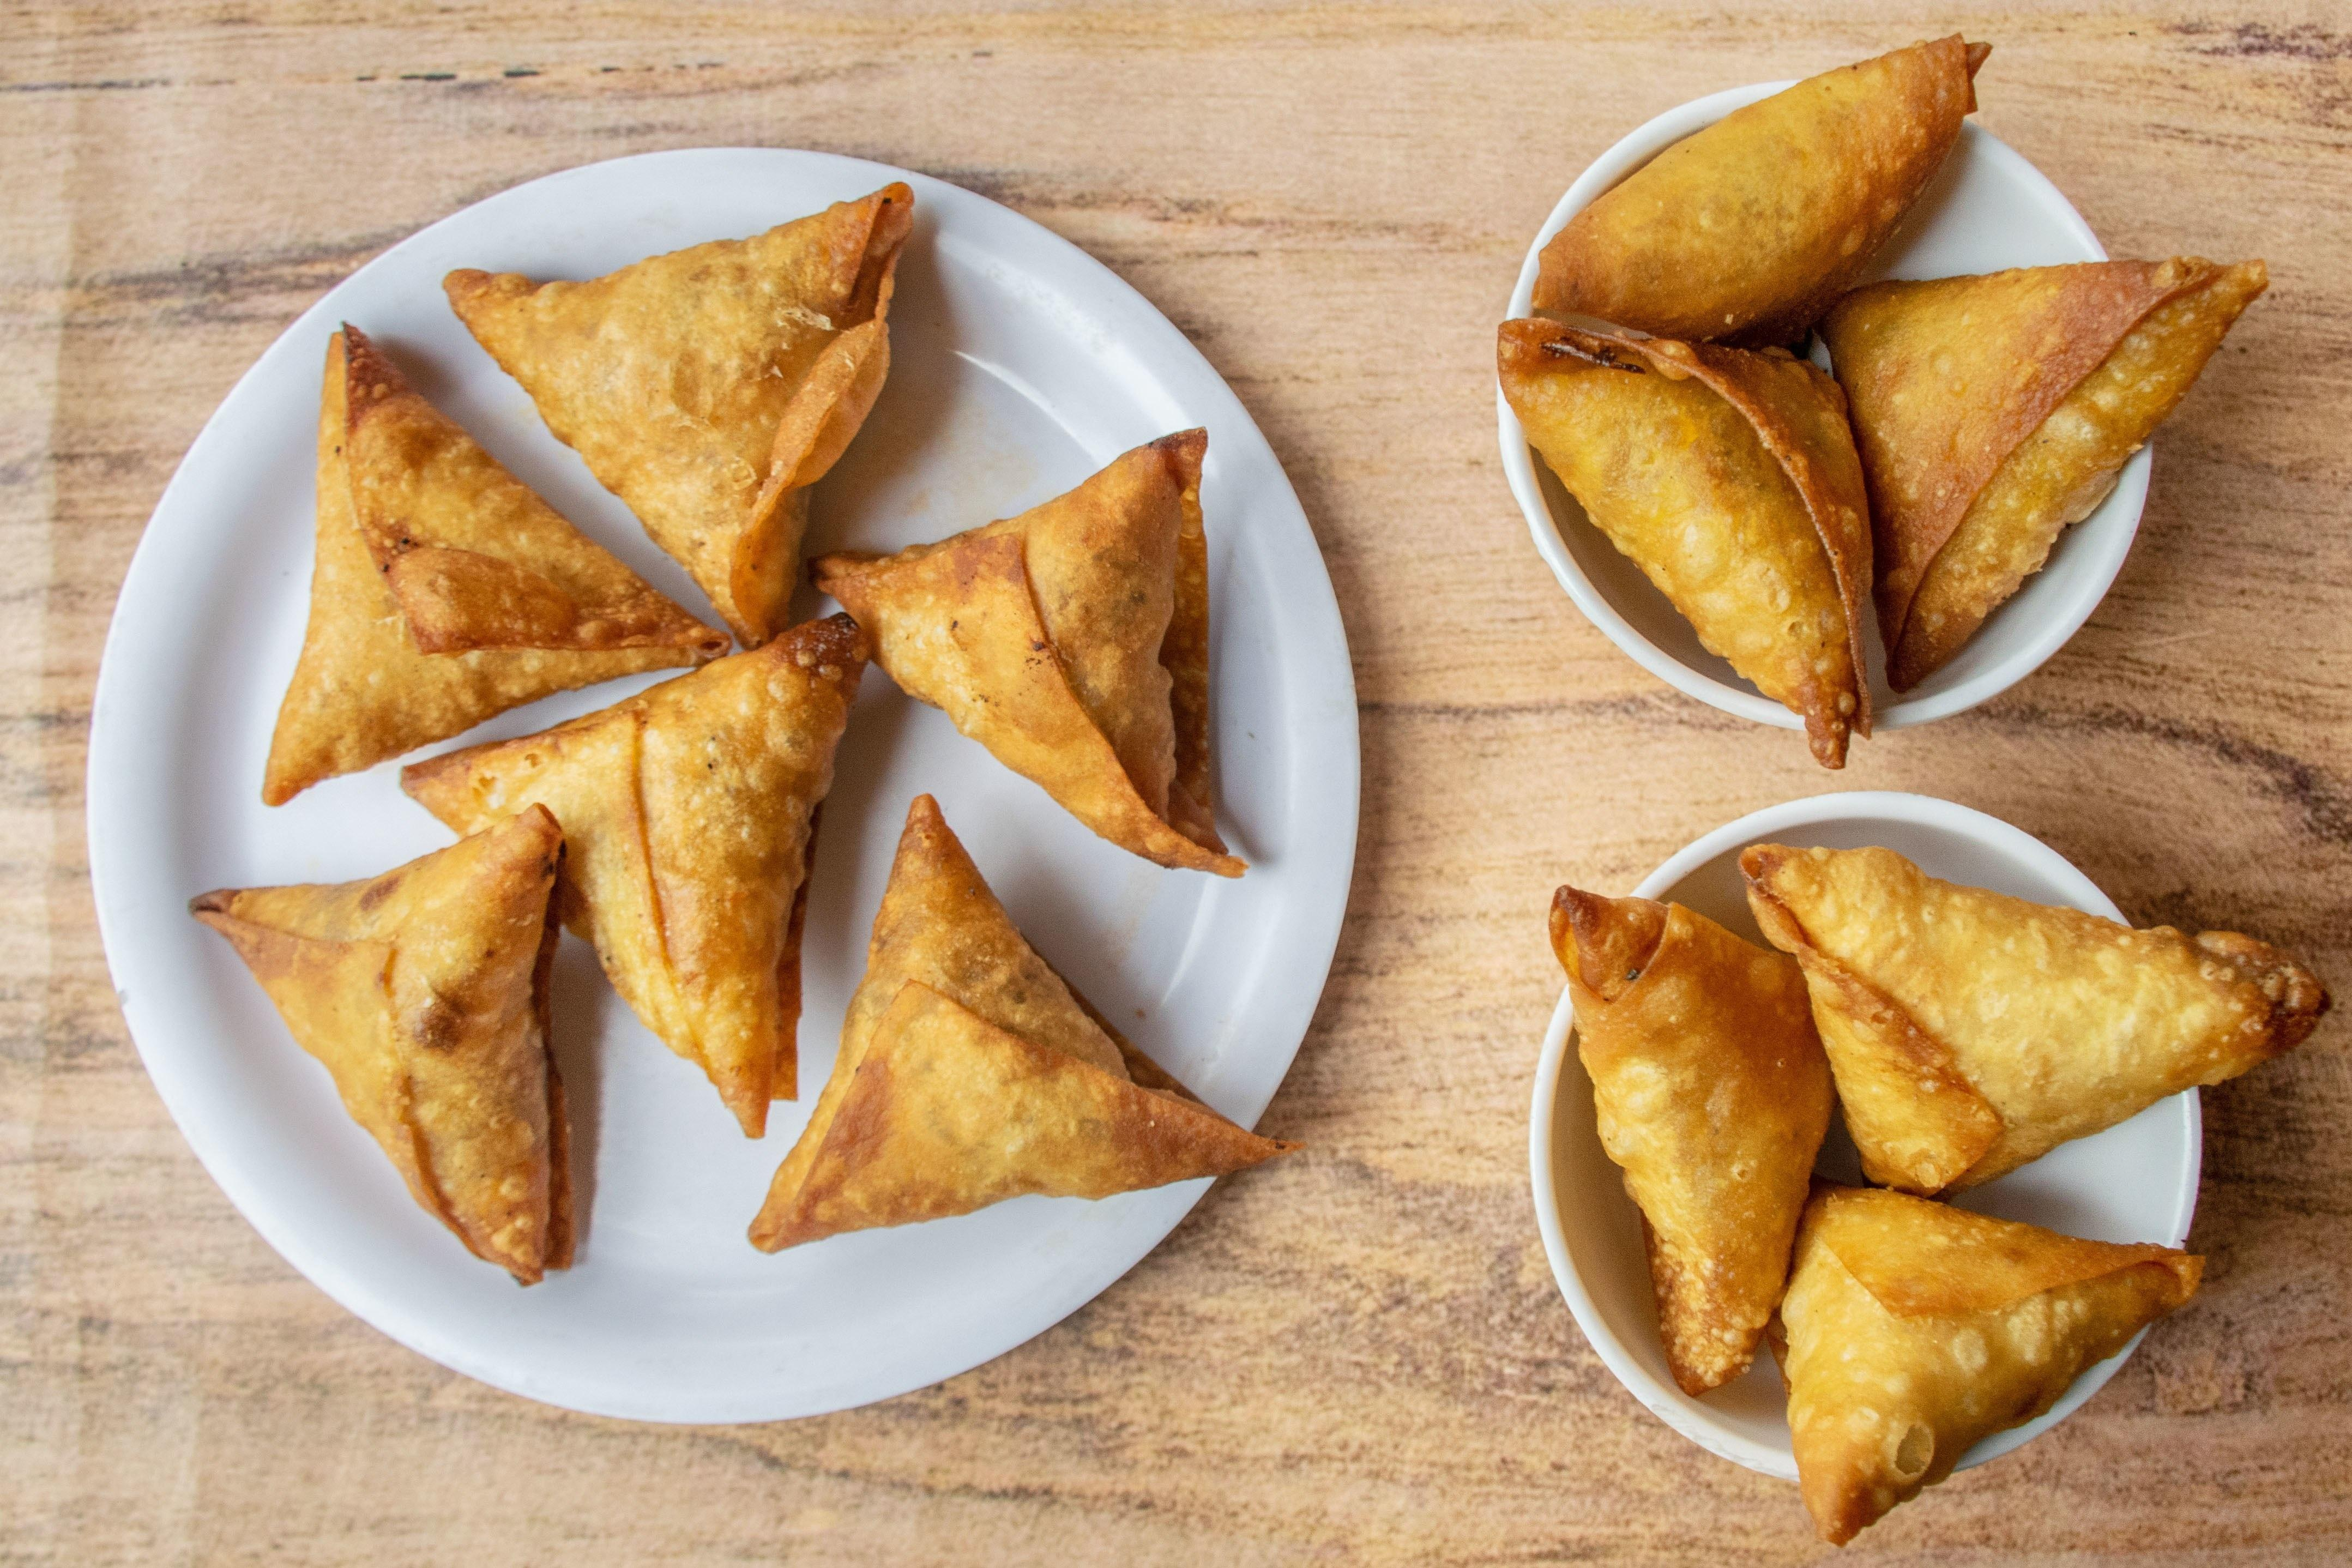samosa: (749, 794, 1295, 1255), (404, 616, 864, 1139), (262, 325, 726, 803), (446, 184, 913, 647), (1741, 845, 2329, 1193), (814, 427, 1244, 877), (1823, 257, 2270, 690), (192, 809, 574, 1286), (1498, 317, 1874, 766), (1769, 1185, 2205, 1544), (1549, 887, 1832, 1396), (1535, 37, 1990, 350), (947, 956, 956, 964), (1916, 376, 1925, 381), (404, 1011, 413, 1015)
